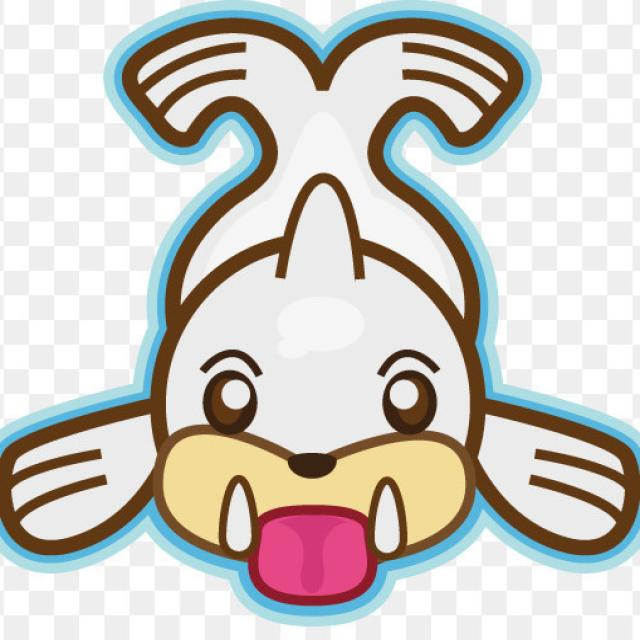Seel: (57, 20, 585, 602)
